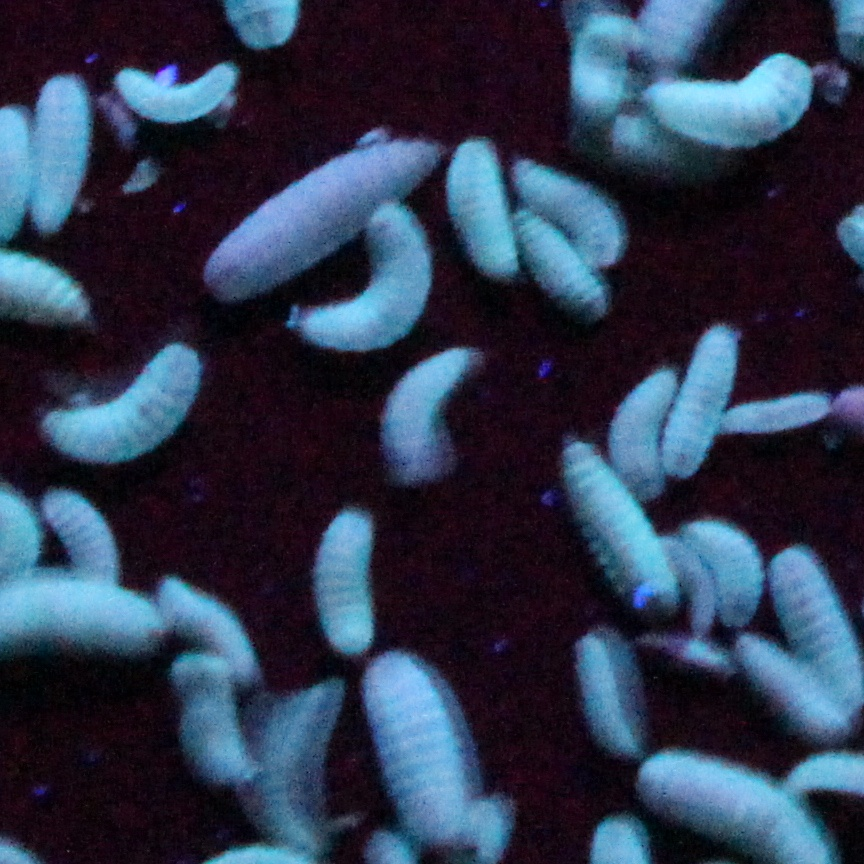larve: (210, 134, 439, 295), (305, 209, 430, 357), (560, 454, 672, 613), (368, 656, 462, 838), (51, 349, 199, 454), (640, 58, 812, 137), (774, 549, 860, 704), (258, 685, 330, 843), (515, 159, 628, 257), (168, 657, 252, 785), (389, 350, 471, 475), (449, 138, 515, 289), (667, 332, 737, 467), (31, 74, 92, 227), (165, 576, 254, 673), (692, 517, 761, 635), (573, 634, 639, 756), (520, 217, 600, 317), (614, 366, 670, 496), (39, 487, 116, 579), (119, 66, 239, 122), (323, 515, 370, 647), (660, 542, 717, 632), (725, 390, 831, 435)
